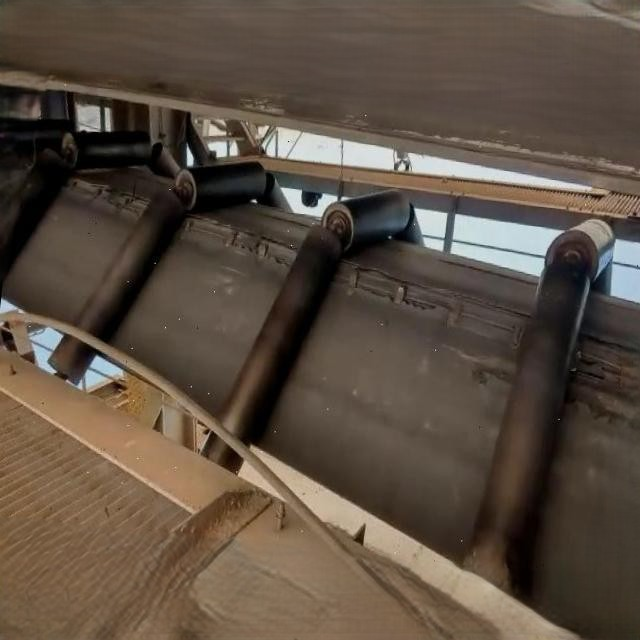Tear: (331, 254, 533, 352), (176, 199, 304, 276), (576, 326, 640, 430), (59, 170, 149, 226)
